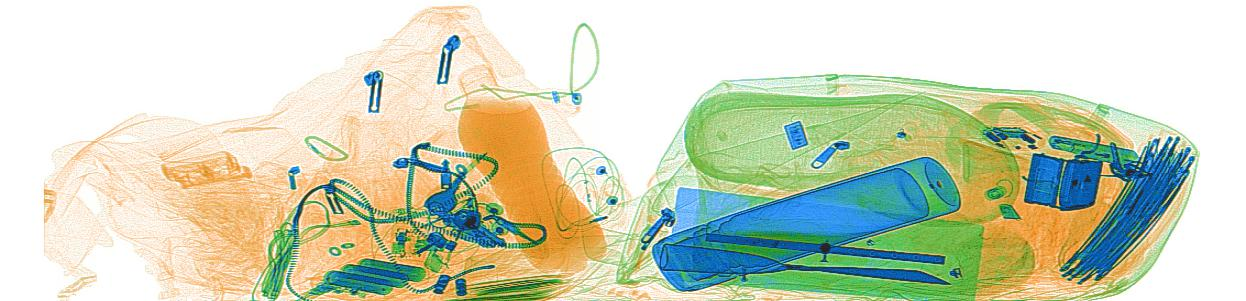battery: (316, 255, 425, 294)
lighter: (1045, 131, 1142, 174)
